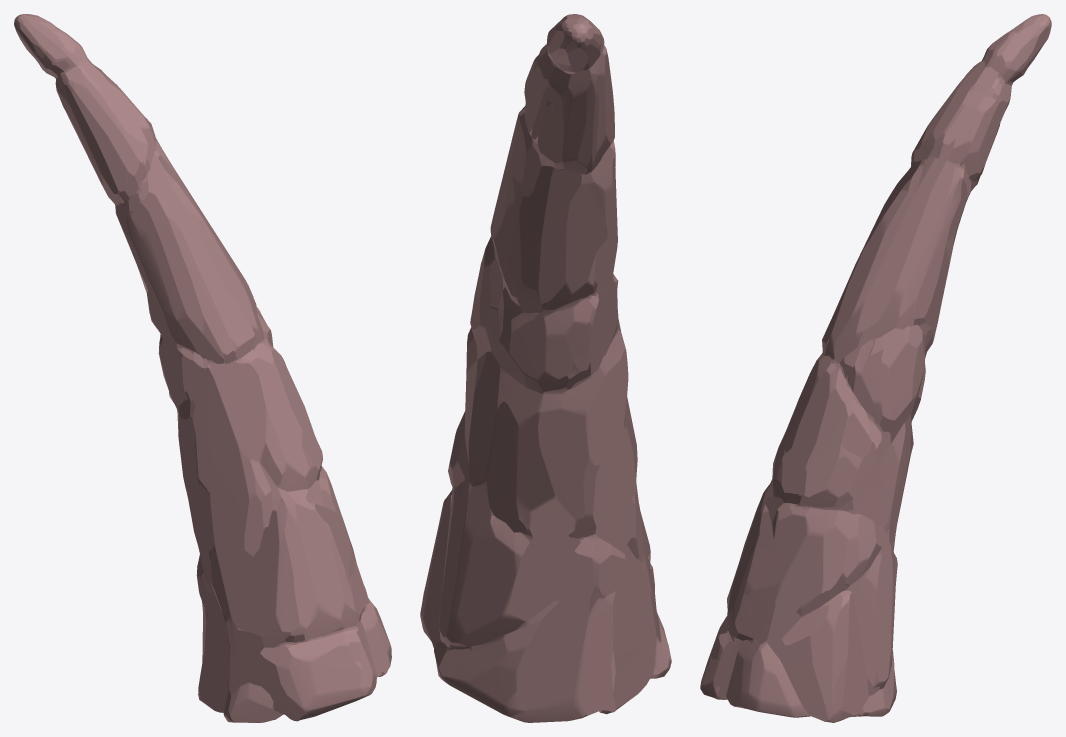
File: sea.fbx_Cone__3_LODs.fbx
3 renders of one model, left to right at view 1: azimuth 30°, elevation 25°; view 2: azimuth 150°, elevation 25°; view 3: azimuth 270°, elevation 25°, orthographic. The views are drawn at different scales.
Visible parts, largest first — view 1: Cone (3)_LOD0; view 2: Cone (3)_LOD0; view 3: Cone (3)_LOD0.
Boxes of the visible parts, x1=… form: Cone (3)_LOD0: x1=14, y1=14, x2=391, y2=722; Cone (3)_LOD0: x1=420, y1=14, x2=671, y2=722; Cone (3)_LOD0: x1=700, y1=14, x2=1051, y2=722.
Size of what is drawn, in the model's own units: 2978 by 7540 by 3831.
